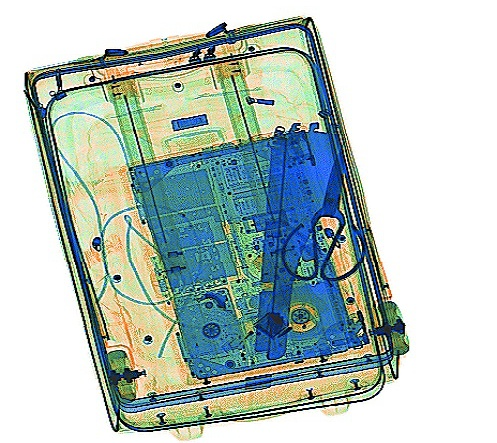lighter: (226, 320, 265, 355)
scissors: (280, 139, 367, 282)
